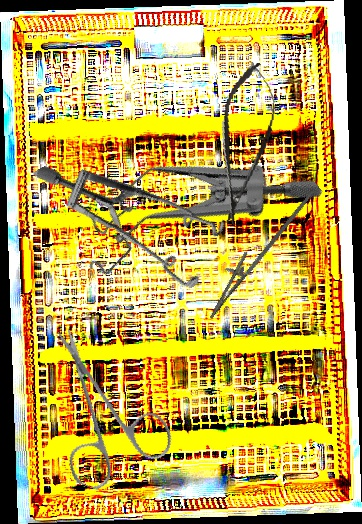Iris Scissors: (12, 326, 196, 509)
Micro Scissor: (205, 58, 284, 229)
Needle Holder: (198, 174, 315, 330)
Speculum: (61, 87, 326, 341), (32, 101, 245, 329)
